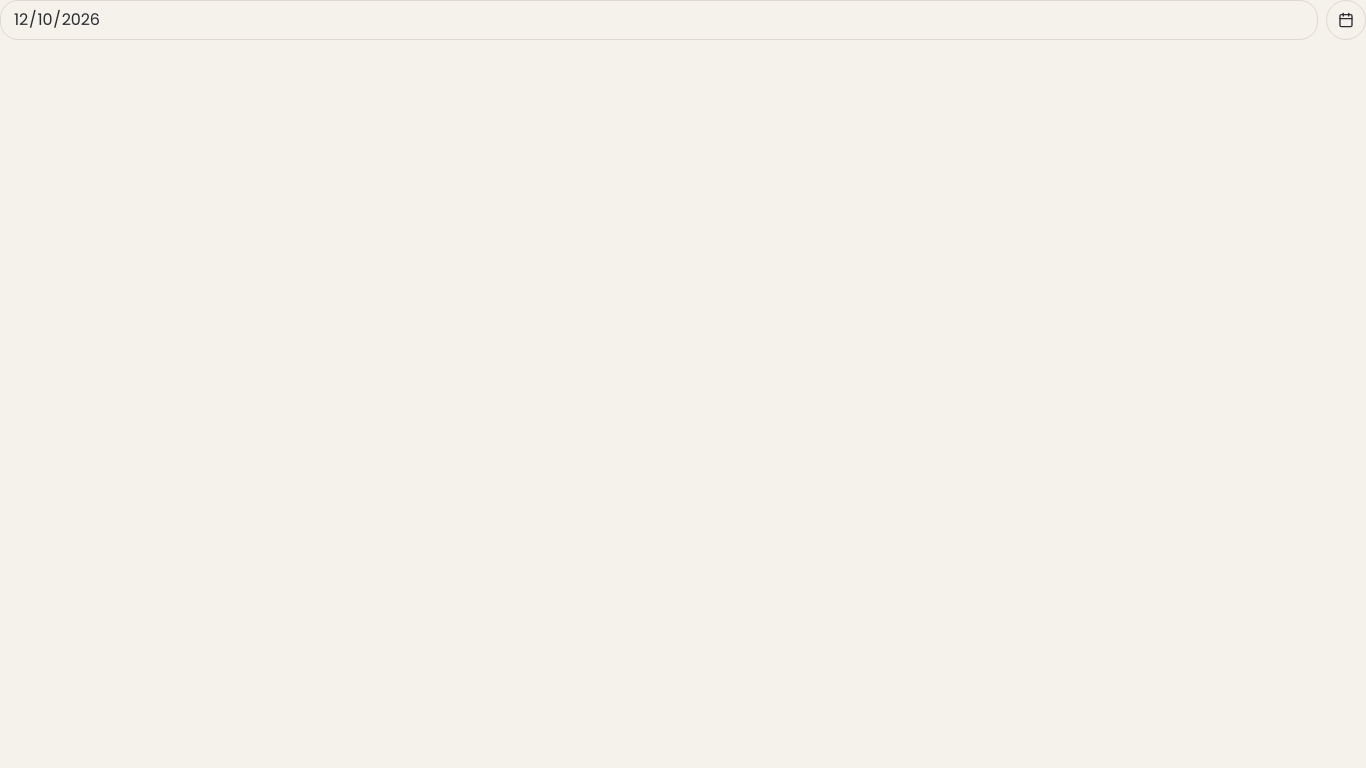
Scenario: DateInputWithCalendar › abre o calendário no mês da data do formulário e em português
Click the button named "Abrir calendário".
click(1346, 20)  # box [1326, 0, 1365, 40]
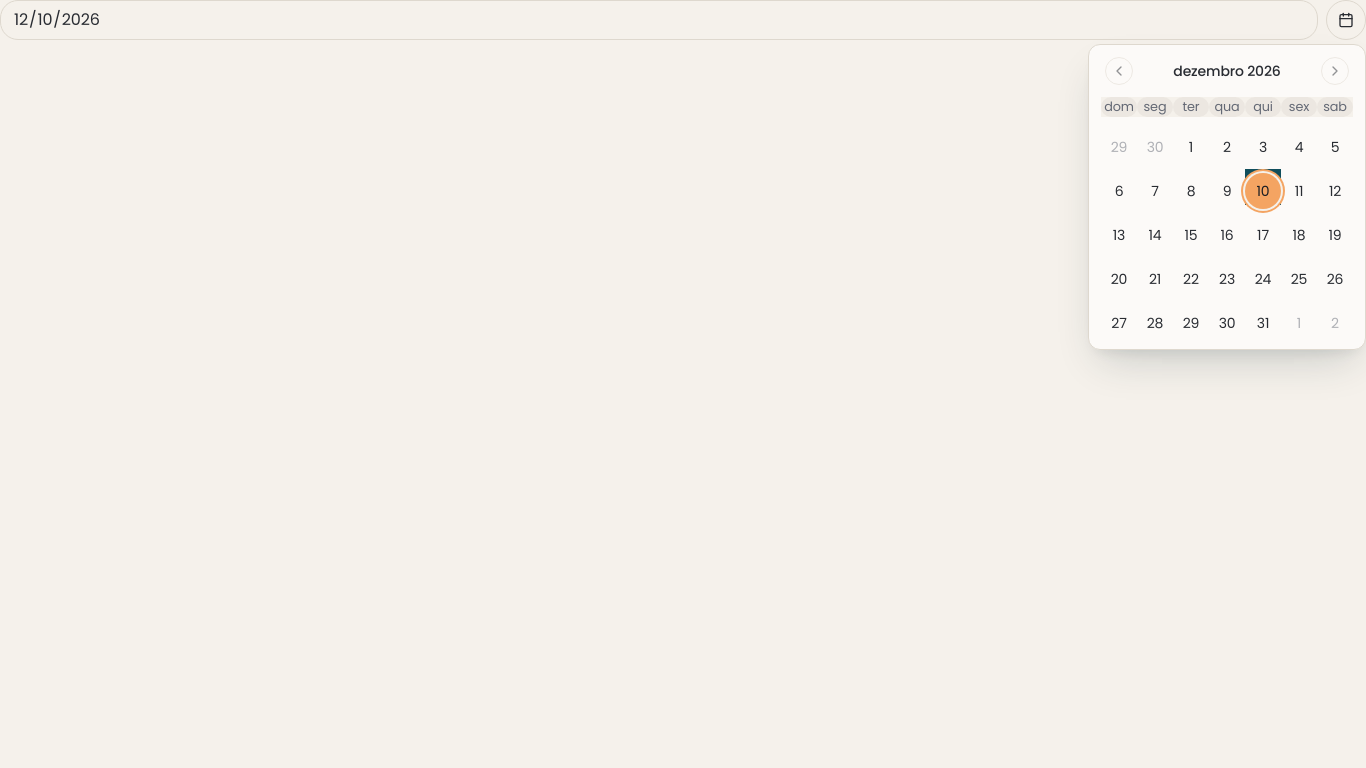
Check: the text "dezembro 2026" is shown, box [1173, 61, 1281, 81]
Check: the column heading "qua" is shown, box [1209, 97, 1245, 117]
